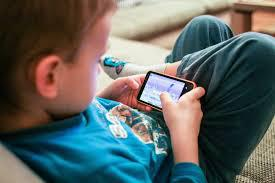0: (73, 25, 108, 110)
Hand: (111, 73, 165, 110), (168, 86, 205, 130)
Smartphone: (146, 70, 190, 112)
